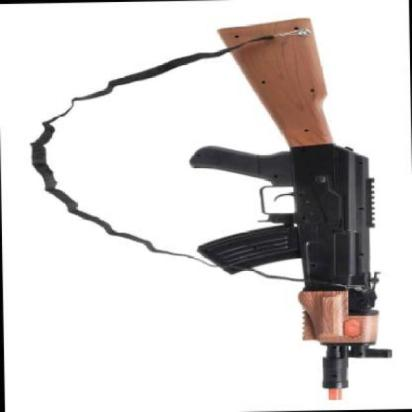Gun: (183, 11, 406, 401)
